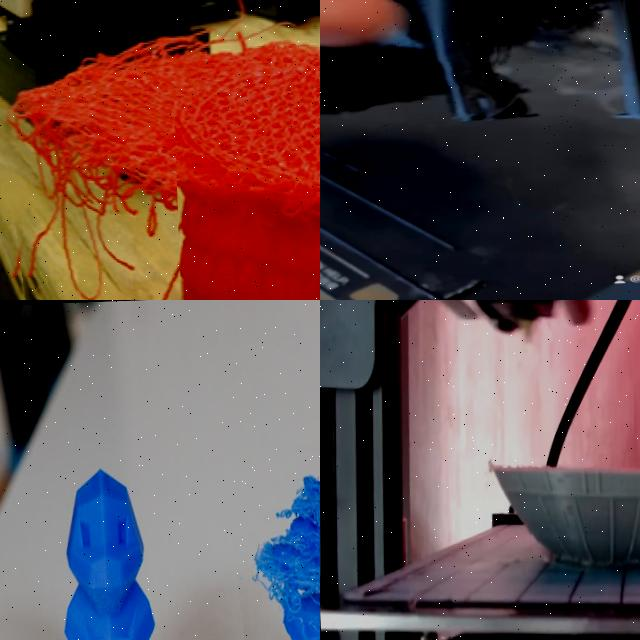spaghetti: (0, 99, 182, 300), (218, 433, 320, 640), (488, 0, 624, 64)
